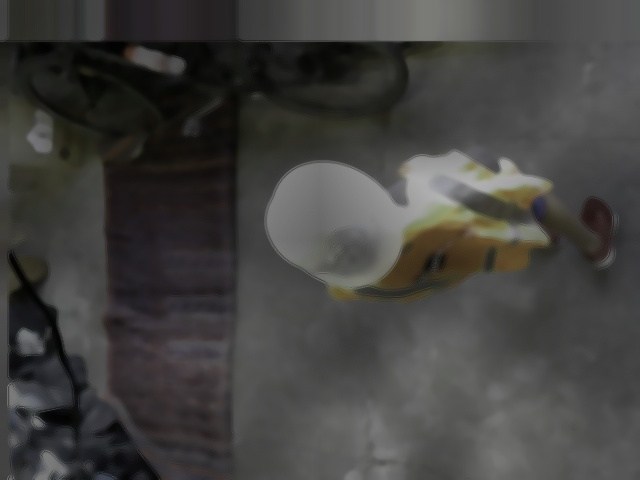eight: (320, 224, 369, 270)
